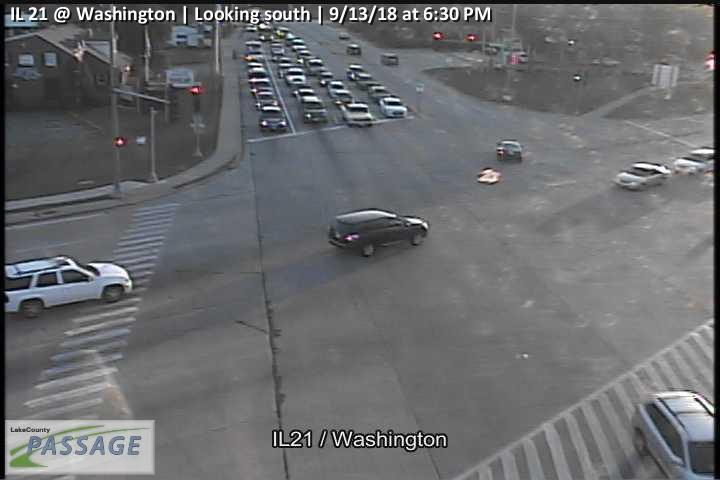SUV: (2, 254, 134, 319), (631, 389, 715, 480), (327, 207, 429, 257), (258, 105, 288, 132), (302, 99, 329, 123), (255, 91, 278, 110), (285, 68, 307, 87)
Sedan: (614, 162, 671, 191), (672, 148, 715, 177), (378, 97, 408, 117), (496, 140, 523, 161), (368, 85, 392, 101), (293, 86, 317, 100), (327, 80, 346, 97)
Truck: (334, 96, 374, 127)
